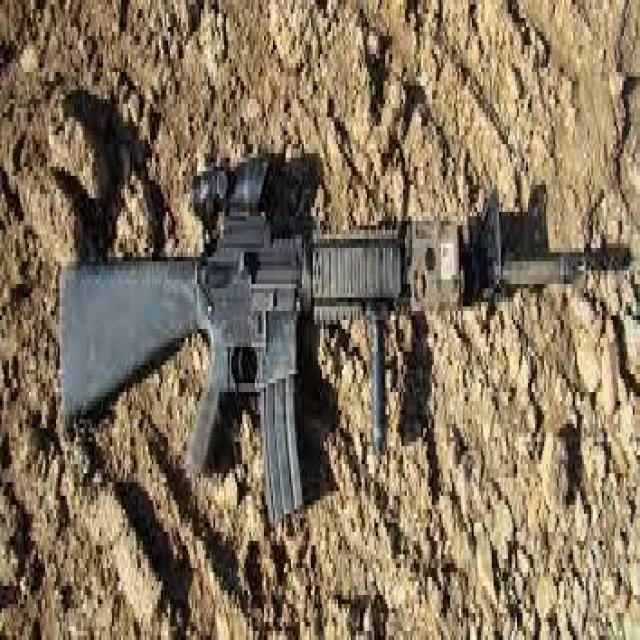m16: (41, 141, 602, 504)
